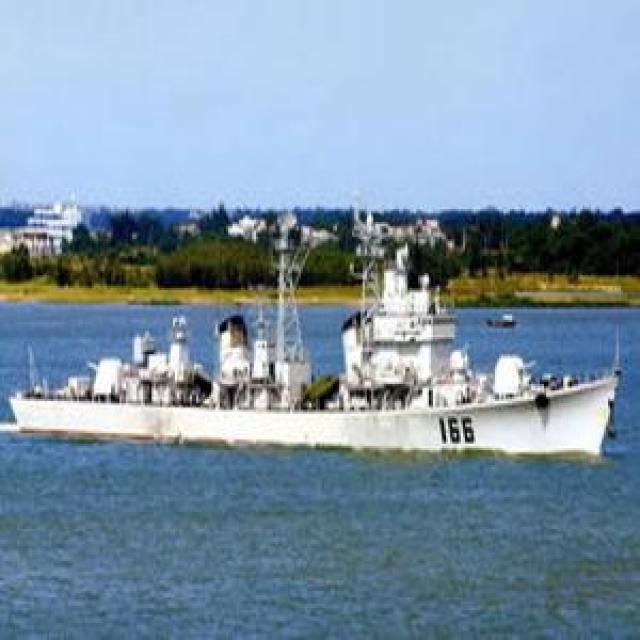passenger ship: (3, 210, 630, 468)
